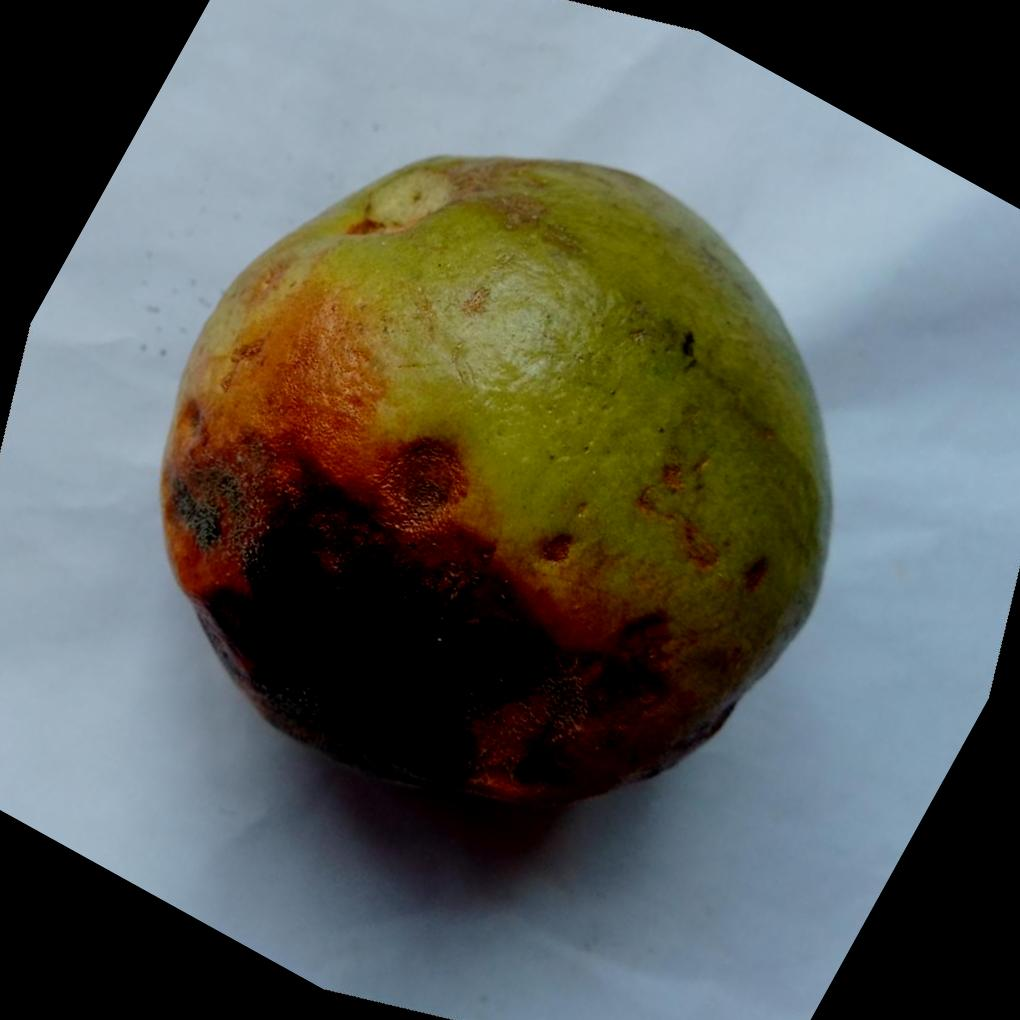FreshOrange: (155, 156, 832, 808)
